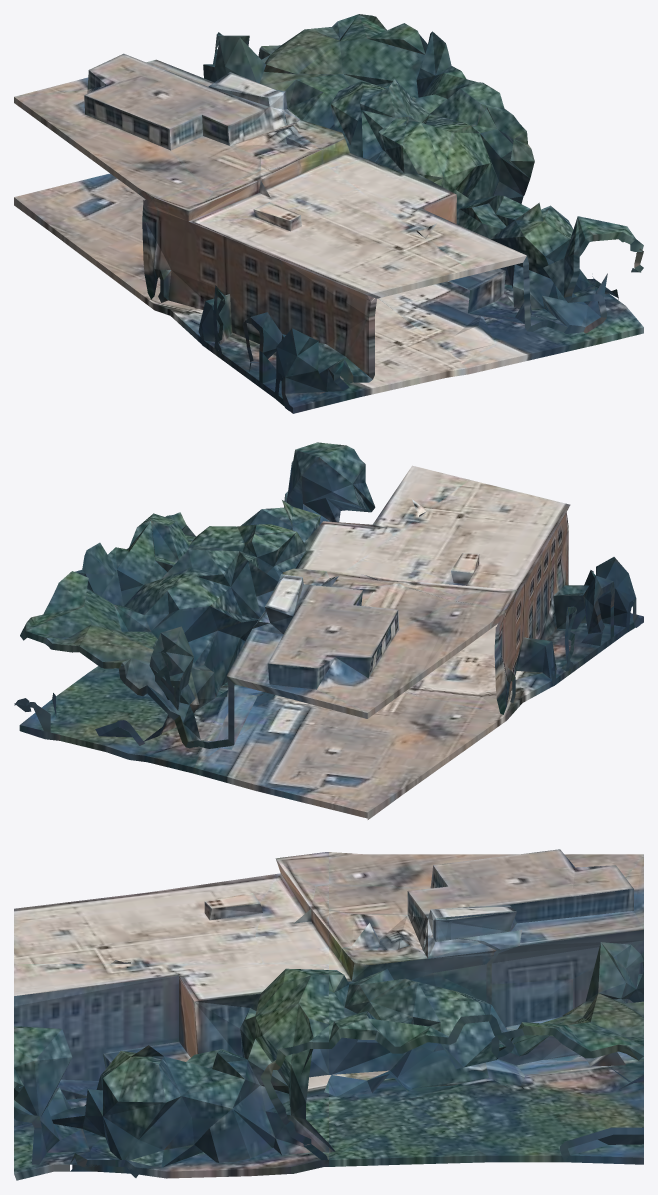
The model's file is chunk_0_-7.glb.
3 views of the same model, one above another, from view 1: azimuth 30°, elevation 25°; view 2: azimuth 150°, elevation 25°; view 3: azimuth 270°, elevation 25° (orthographic). The views are drawn at different scales.
Parts seen in each view (by area): view 1: hero-chunk; view 2: hero-chunk; view 3: hero-chunk.
Boxes of the visible parts, left/top/right/bottom form: hero-chunk: left=14, top=14, right=643, bottom=413; hero-chunk: left=14, top=442, right=643, bottom=819; hero-chunk: left=14, top=849, right=643, bottom=1180.
Size of the model in its own units: 56.34 by 22.23 by 76.32.
Materials: 2 (2 with a texture image).
